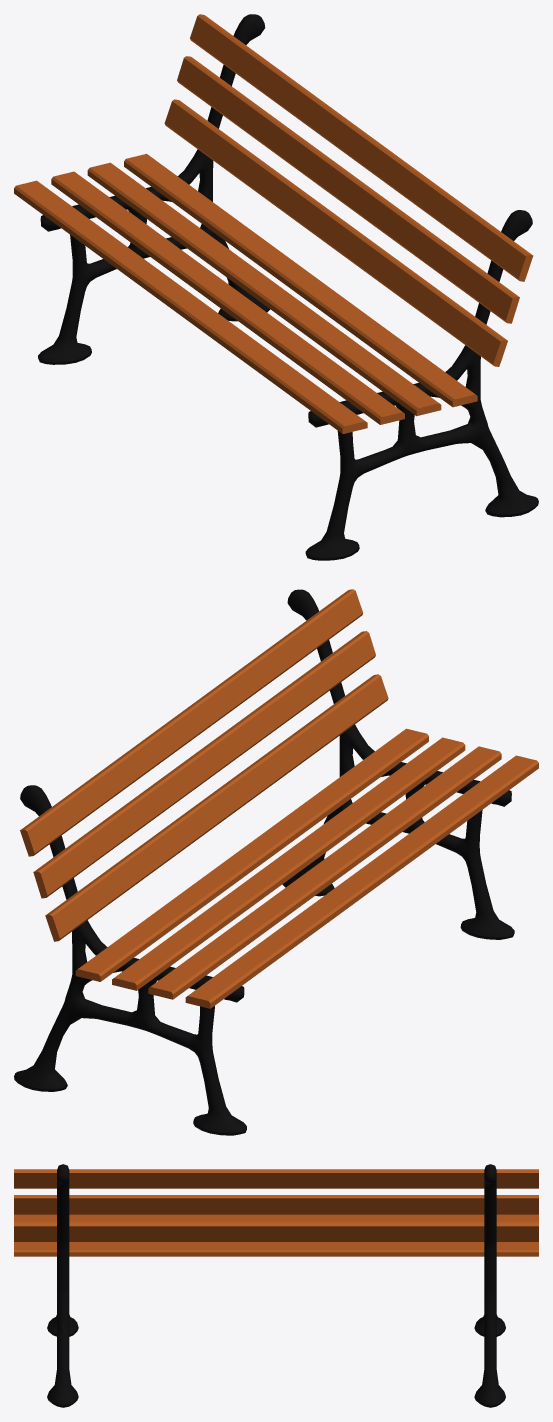
Rendered from banco_de_praca_-_versao_2.0.glb.
3 renders of one model, top to bottom at view 1: azimuth 30°, elevation 25°; view 2: azimuth 150°, elevation 25°; view 3: azimuth 270°, elevation 25°, orthographic. The views are drawn at different scales.
Parts seen in each view (by area): view 1: pCube27, pCube25, pCube26, pPlane6, pCube23, pCube22, pCube21, pCube24, pPlane3; view 2: pCube27, pCube25, pCube26, pPlane3, pCube22, pCube21, pCube23, pCube24, pPlane6; view 3: pCube26, pCube27, pCube25, pCube24, pCube22, pPlane6, pPlane3.
Boxes of the visible parts, <box> form: pCube27: <box>190,14,533,281</box>; pCube25: <box>164,99,507,366</box>; pCube26: <box>177,56,519,323</box>; pPlane6: <box>305,210,538,560</box>; pCube23: <box>87,162,441,416</box>; pCube22: <box>51,171,404,424</box>; pCube21: <box>14,180,367,433</box>; pCube24: <box>124,153,477,407</box>; pPlane3: <box>38,14,270,364</box>; pCube27: <box>20,589,362,856</box>; pCube25: <box>45,674,388,941</box>; pCube26: <box>33,631,375,898</box>; pPlane3: <box>14,785,246,1135</box>; pCube22: <box>148,746,501,999</box>; pCube21: <box>185,755,538,1008</box>; pCube23: <box>112,737,465,990</box>; pCube24: <box>75,728,428,981</box>; pPlane6: <box>282,589,514,939</box>; pCube26: <box>14,1195,538,1214</box>; pCube27: <box>14,1169,538,1188</box>; pCube25: <box>14,1222,538,1241</box>; pCube24: <box>14,1242,538,1256</box>; pCube22: <box>14,1214,538,1222</box>; pPlane6: <box>47,1164,78,1407</box>; pPlane3: <box>474,1164,505,1407</box>.
Size of the model in its own units: 1.38 by 1.7 by 3.41.
